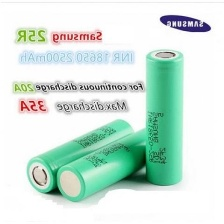battery: (54, 123, 169, 203), (24, 115, 136, 195), (143, 46, 188, 188)
